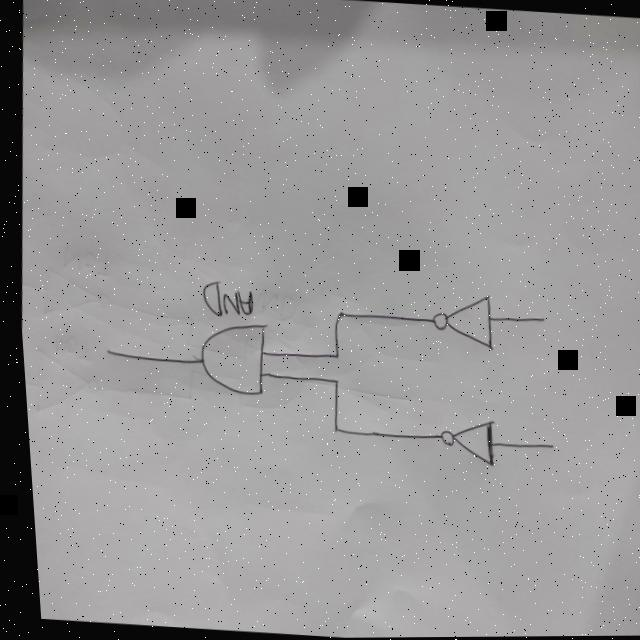junction: (329, 308, 341, 322), (324, 423, 335, 438), (325, 374, 335, 388), (326, 349, 336, 362)
terminal: (527, 312, 545, 327), (536, 440, 551, 453), (98, 346, 108, 357)
text: (194, 278, 254, 320)
